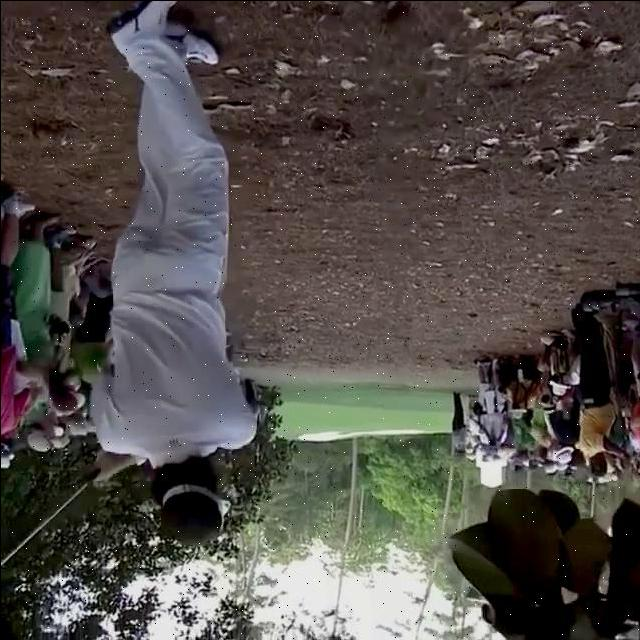golf club-handle: (0, 467, 100, 564)
